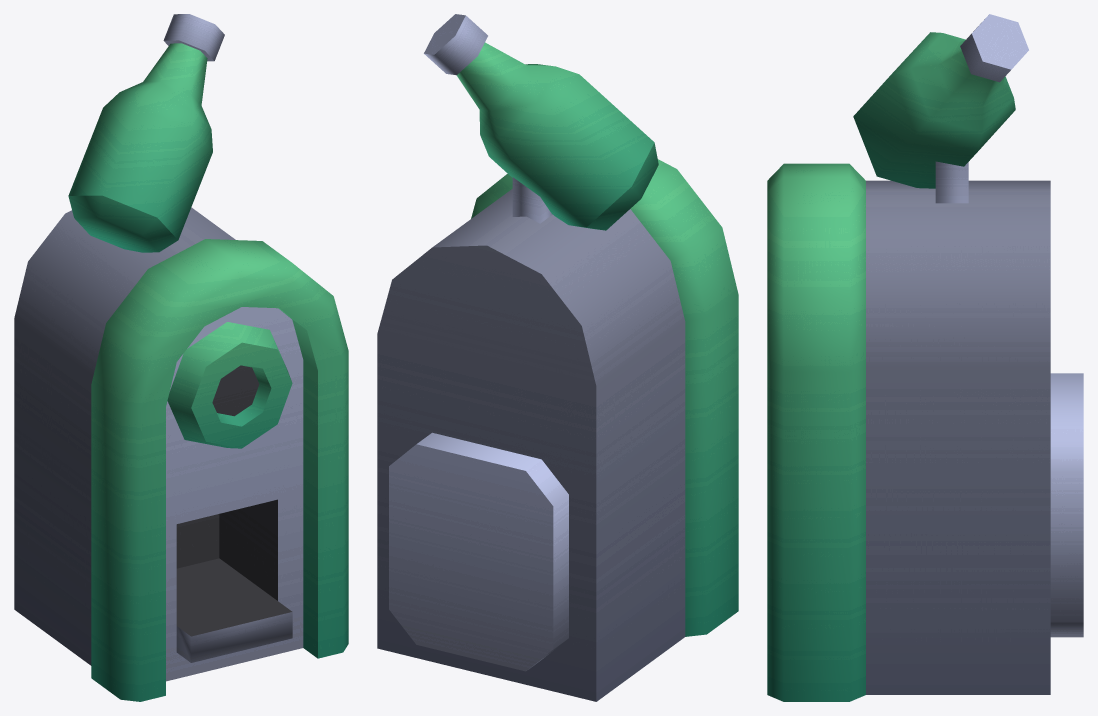
Rendered from bottle_return.glb.
3 renders of one model, left to right at view 1: azimuth 30°, elevation 25°; view 2: azimuth 150°, elevation 25°; view 3: azimuth 270°, elevation 25°, orthographic. The views are drawn at different scales.
Parts seen in each view (by area): view 1: bottle-return; view 2: bottle-return; view 3: bottle-return.
Boxes of the visible parts, box(x1,y1,x2,y2) form: bottle-return: box(14, 14, 348, 701); bottle-return: box(377, 14, 738, 701); bottle-return: box(767, 14, 1083, 701).
Bounding box in the file's own units: 0.45 × 1.09 × 0.481.
1 material, 1 textured.
